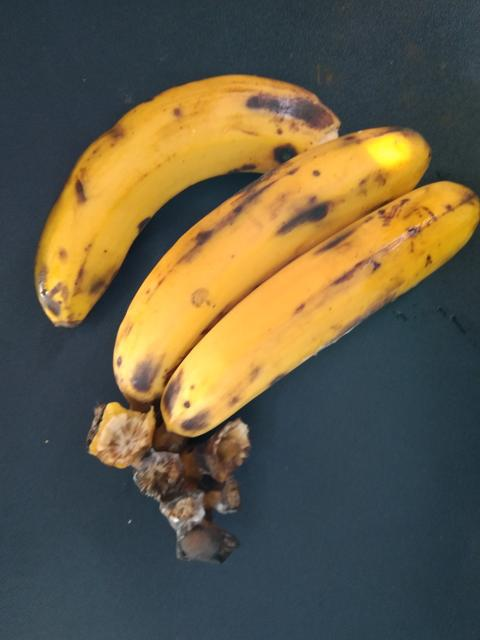overripe: (117, 119, 424, 403), (154, 187, 476, 451), (27, 54, 336, 329)
